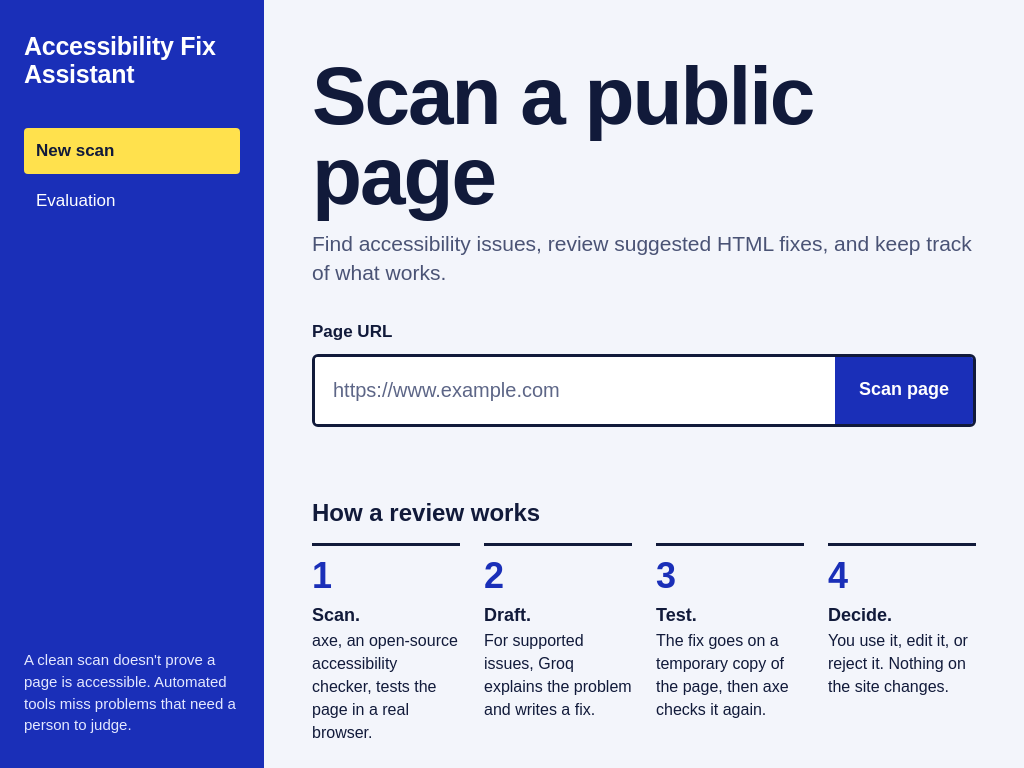
new scan › goes to the results and waits for a running scan
Step 1. Type "https://example.com" into the field labelled "Page URL" → (575, 390), box [315,357,835,424]
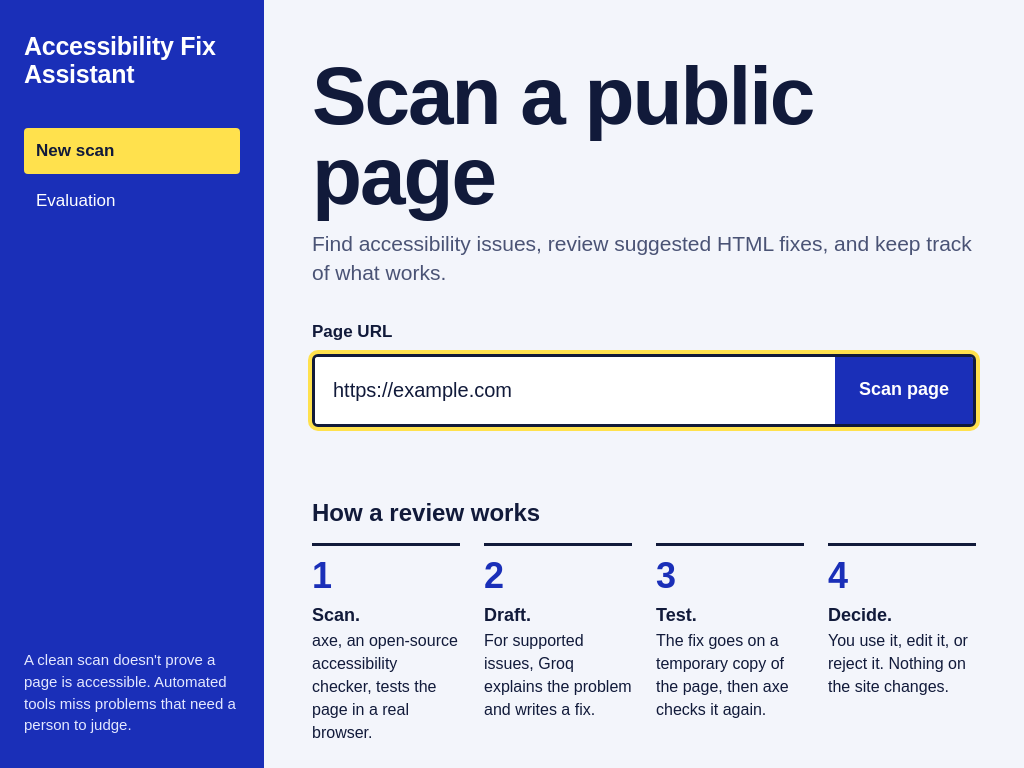
Step 2. Click the button "Scan page" → (904, 390), box [835,357,973,424]
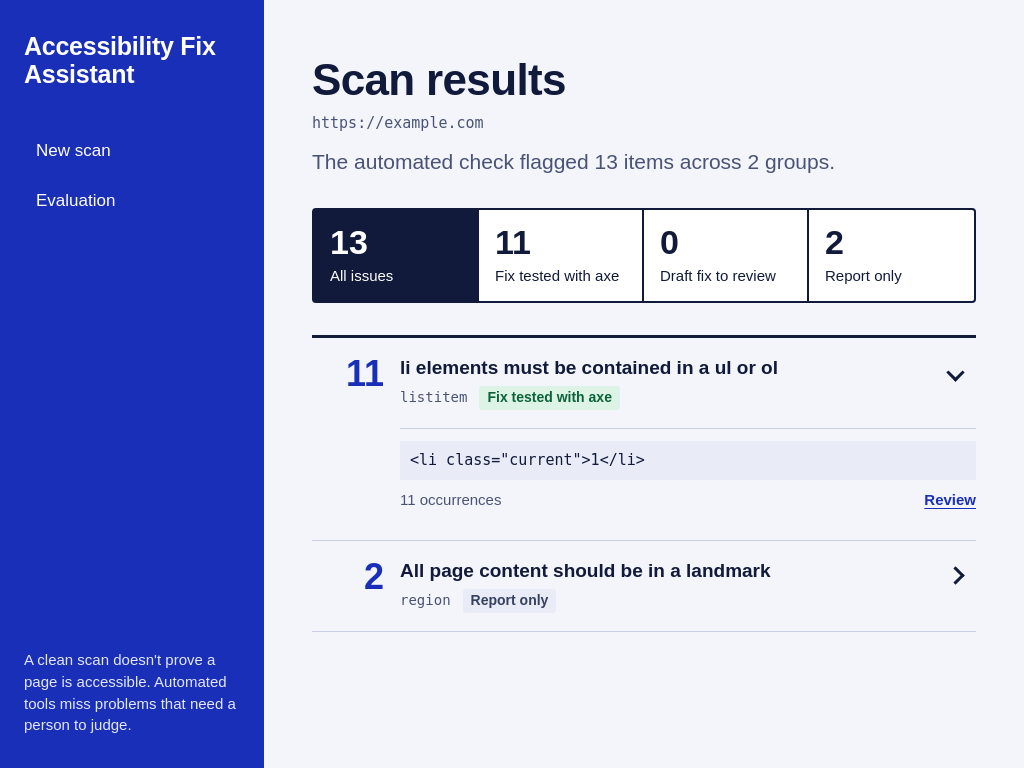
Check: the heading "Scan results" is shown, box [312,55,566,104]
